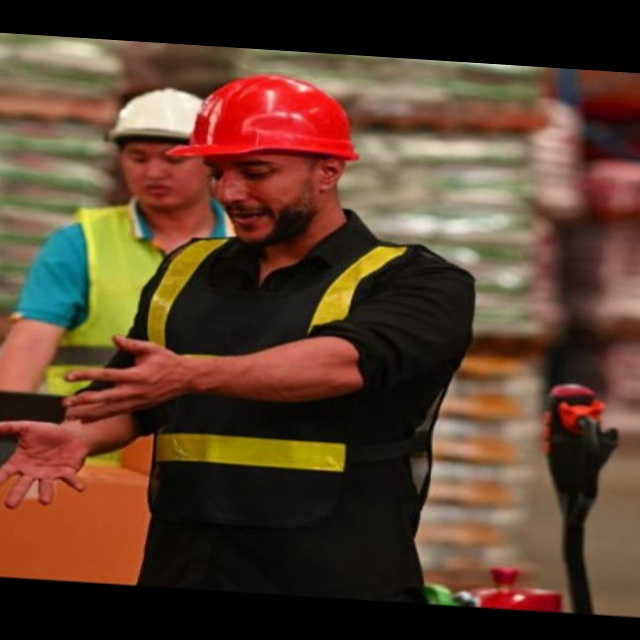Con_Chaleco: (128, 221, 477, 499)
